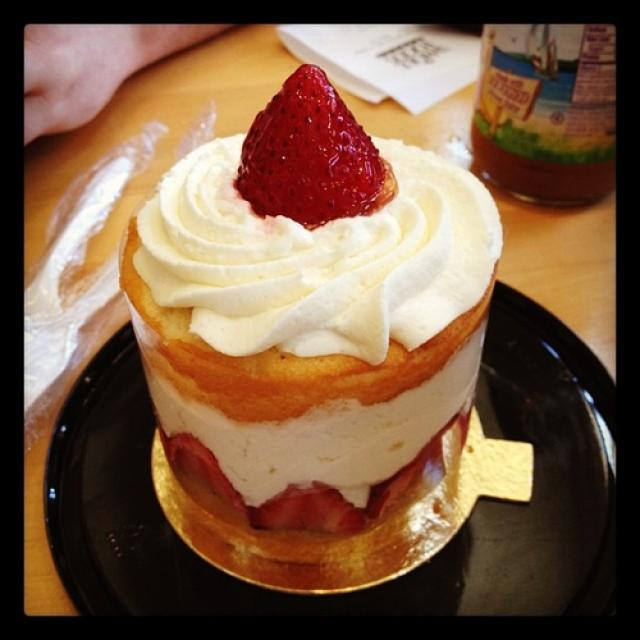蛋糕甜品: (59, 42, 612, 611)
